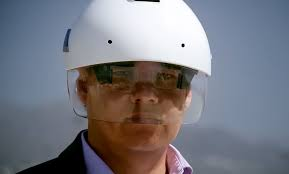Person_wearing_helmet: (64, 0, 208, 98)
